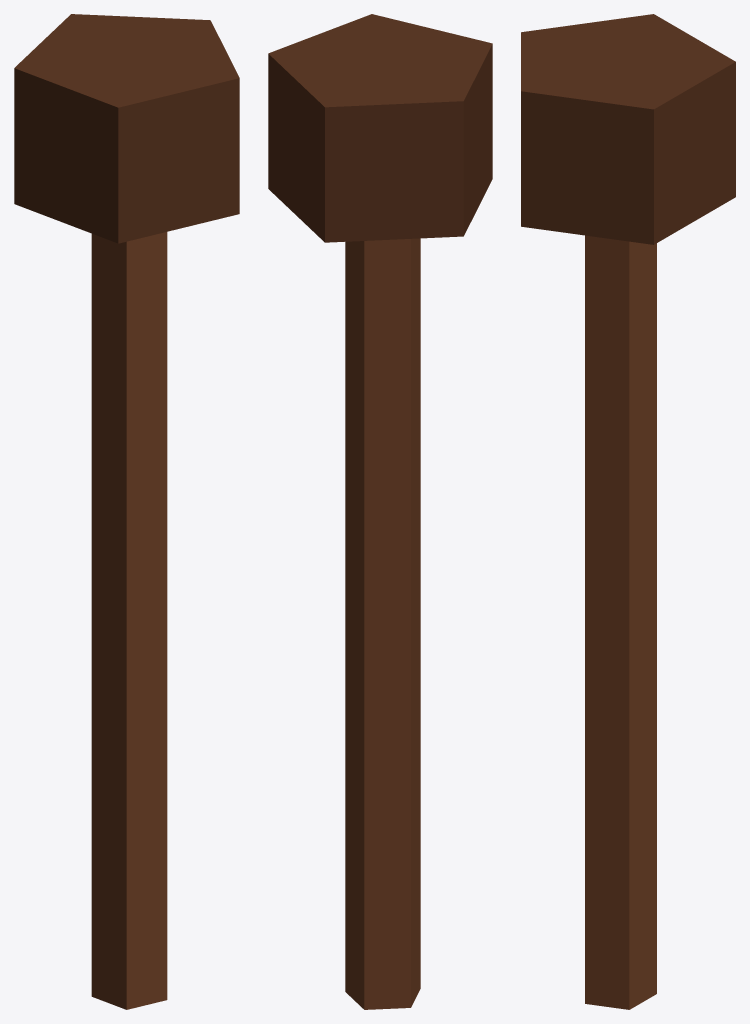
Rendered from lever-top.fbx.
The picture shows the model from 3 angles, left to right: view 1: azimuth 30°, elevation 25°; view 2: azimuth 150°, elevation 25°; view 3: azimuth 270°, elevation 25°; orthographic projection.
Visible parts, largest first — view 1: lever-top; view 2: lever-top; view 3: lever-top.
Boxes of the visible parts, x1=… form: lever-top: x1=14, y1=14, x2=239, y2=1009; lever-top: x1=268, y1=14, x2=492, y2=1009; lever-top: x1=521, y1=14, x2=735, y2=1009.
Size of the model in its own units: 16.06 by 73.1 by 15.27.
